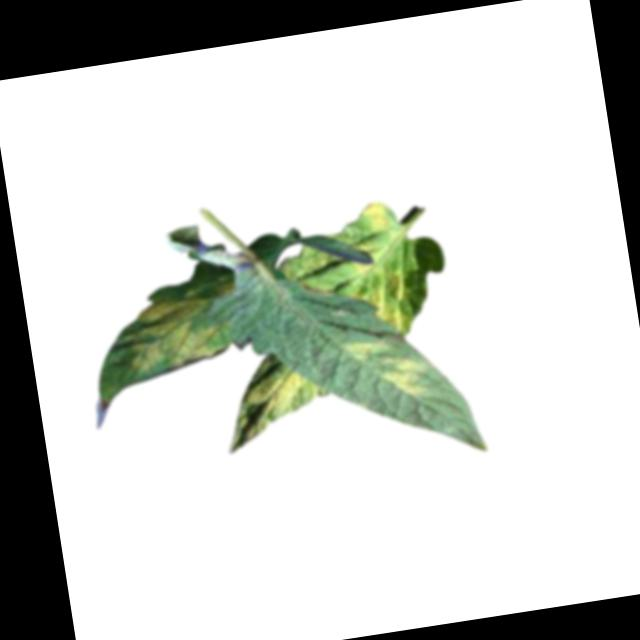Leaf_Mold: (122, 277, 247, 373), (216, 355, 323, 453), (341, 327, 431, 406), (358, 270, 411, 335), (360, 197, 398, 234), (347, 239, 378, 273)
